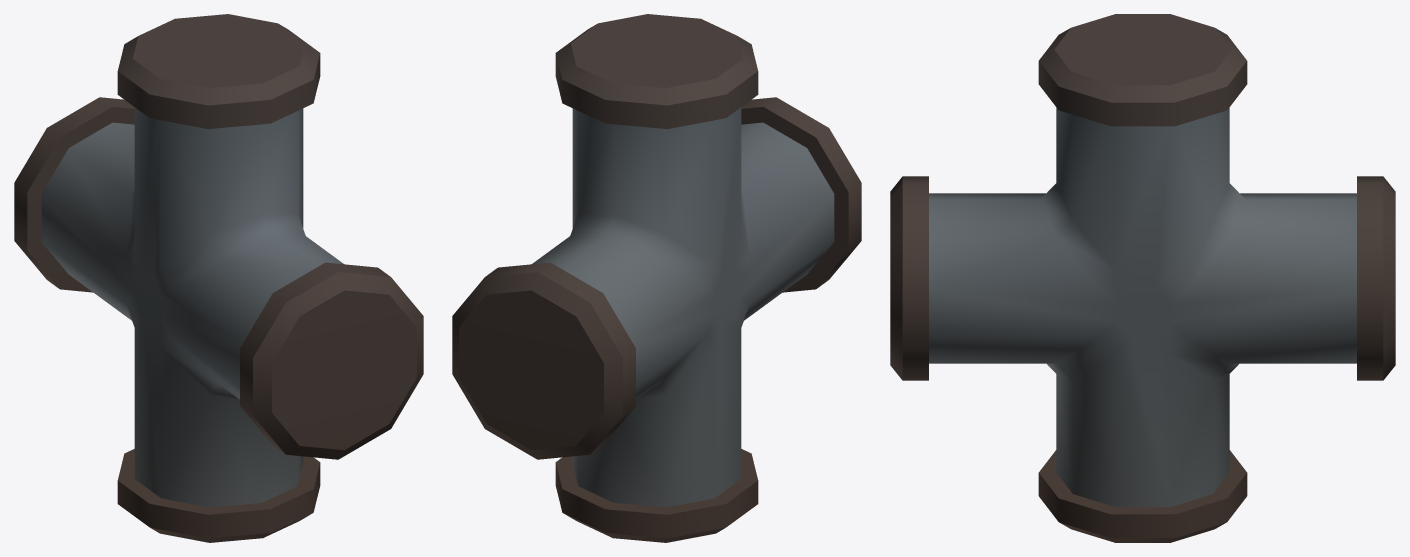
File: SM_PipiB_02.fbx
The picture shows the model from 3 angles, left to right: view 1: azimuth 30°, elevation 25°; view 2: azimuth 150°, elevation 25°; view 3: azimuth 270°, elevation 25°; orthographic projection.
Parts seen in each view (by area): view 1: SM_PipiB_02; view 2: SM_PipiB_02; view 3: SM_PipiB_02.
Boxes of the visible parts, x1,y1,x2,y2 form: SM_PipiB_02: (14, 14, 423, 542); SM_PipiB_02: (452, 14, 861, 542); SM_PipiB_02: (890, 14, 1395, 542).
Bounding box in the file's own units: 0.2064 × 0.526 × 0.526.
